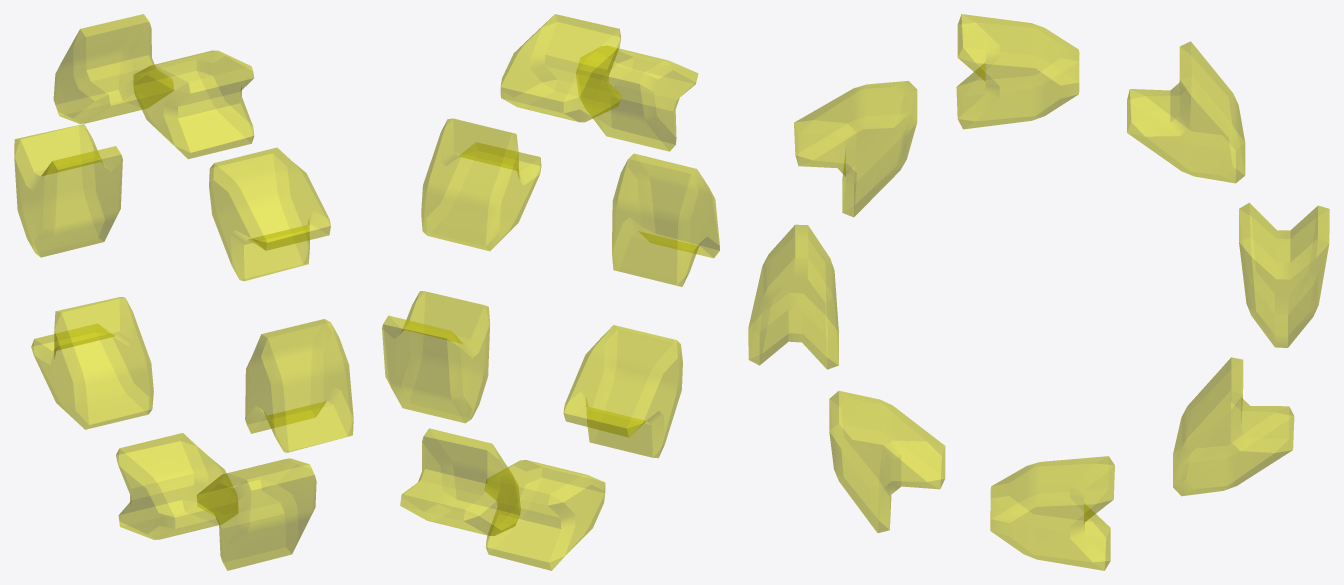
Rendered from accelerate.fbx.
The picture shows the model from 3 angles, left to right: view 1: azimuth 30°, elevation 25°; view 2: azimuth 150°, elevation 25°; view 3: azimuth 270°, elevation 25°; orthographic projection. The views are drawn at different scales.
Parts seen in each view (by area): view 1: pCube10; view 2: pCube10; view 3: pCube10.
Boxes of the visible parts, <box> form: pCube10: <box>14,14,353,570</box>; pCube10: <box>382,14,719,570</box>; pCube10: <box>748,14,1329,570</box>.
Size of the model in its own units: 1.31 by 7.92 by 7.96.
